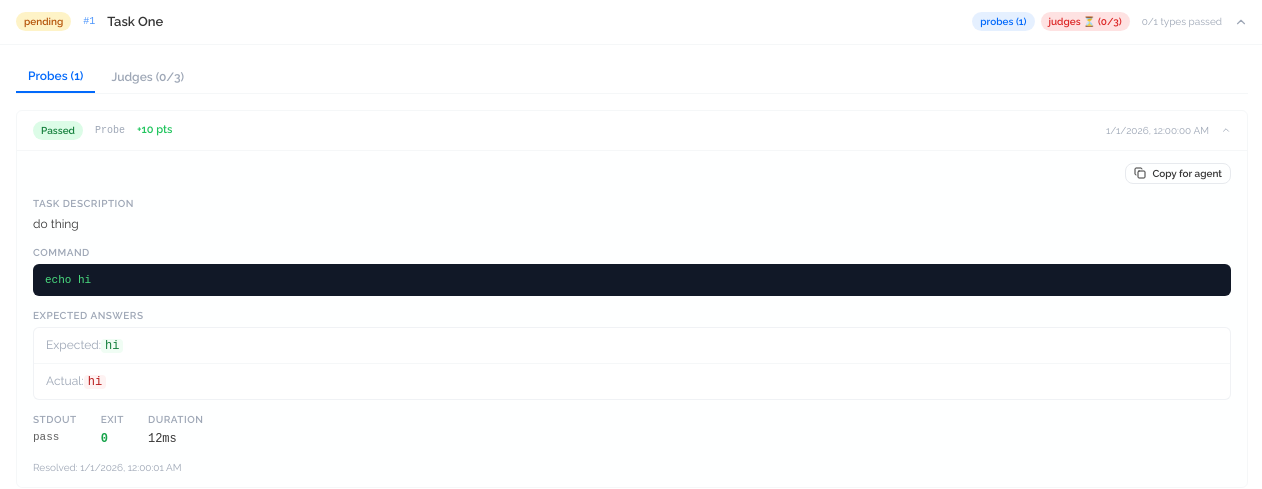
it: PlayerTaskPanel › judges tab appears from statuses alone and shows lifecycle states
This screenshot has width=1262, height=489.
Click the tab with test id "tab-judges" at [148, 76], box [99,60,196,92]
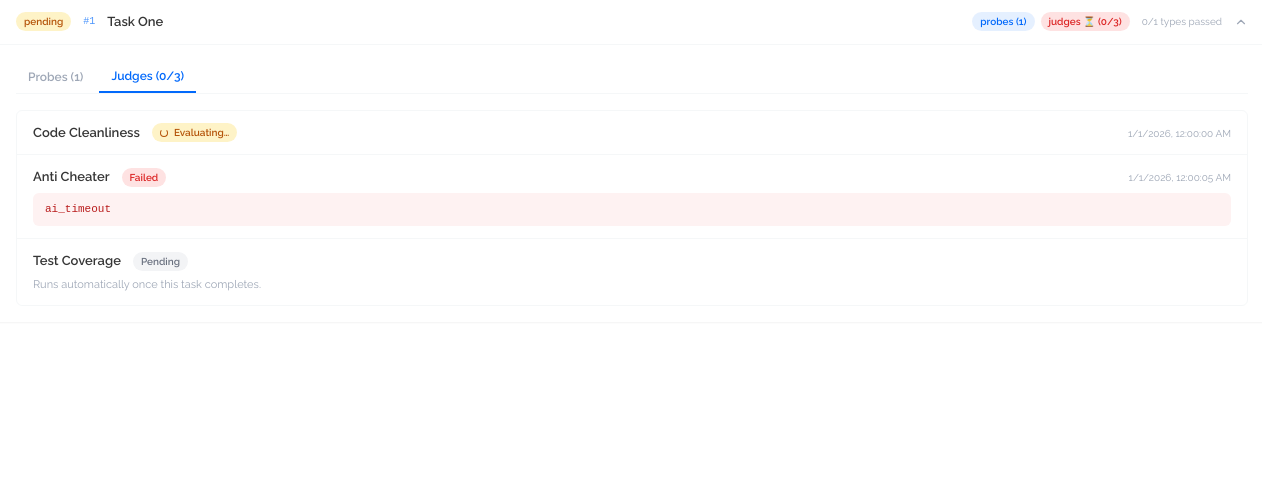
Now the panel with test id "task-judges-1" shows "Evaluating…", box [174,127,229,138]
Now the panel with test id "task-judges-1" shows "Failed", box [130,172,158,183]
Now the panel with test id "task-judges-1" shows "ai_timeout", box [45,203,111,215]
